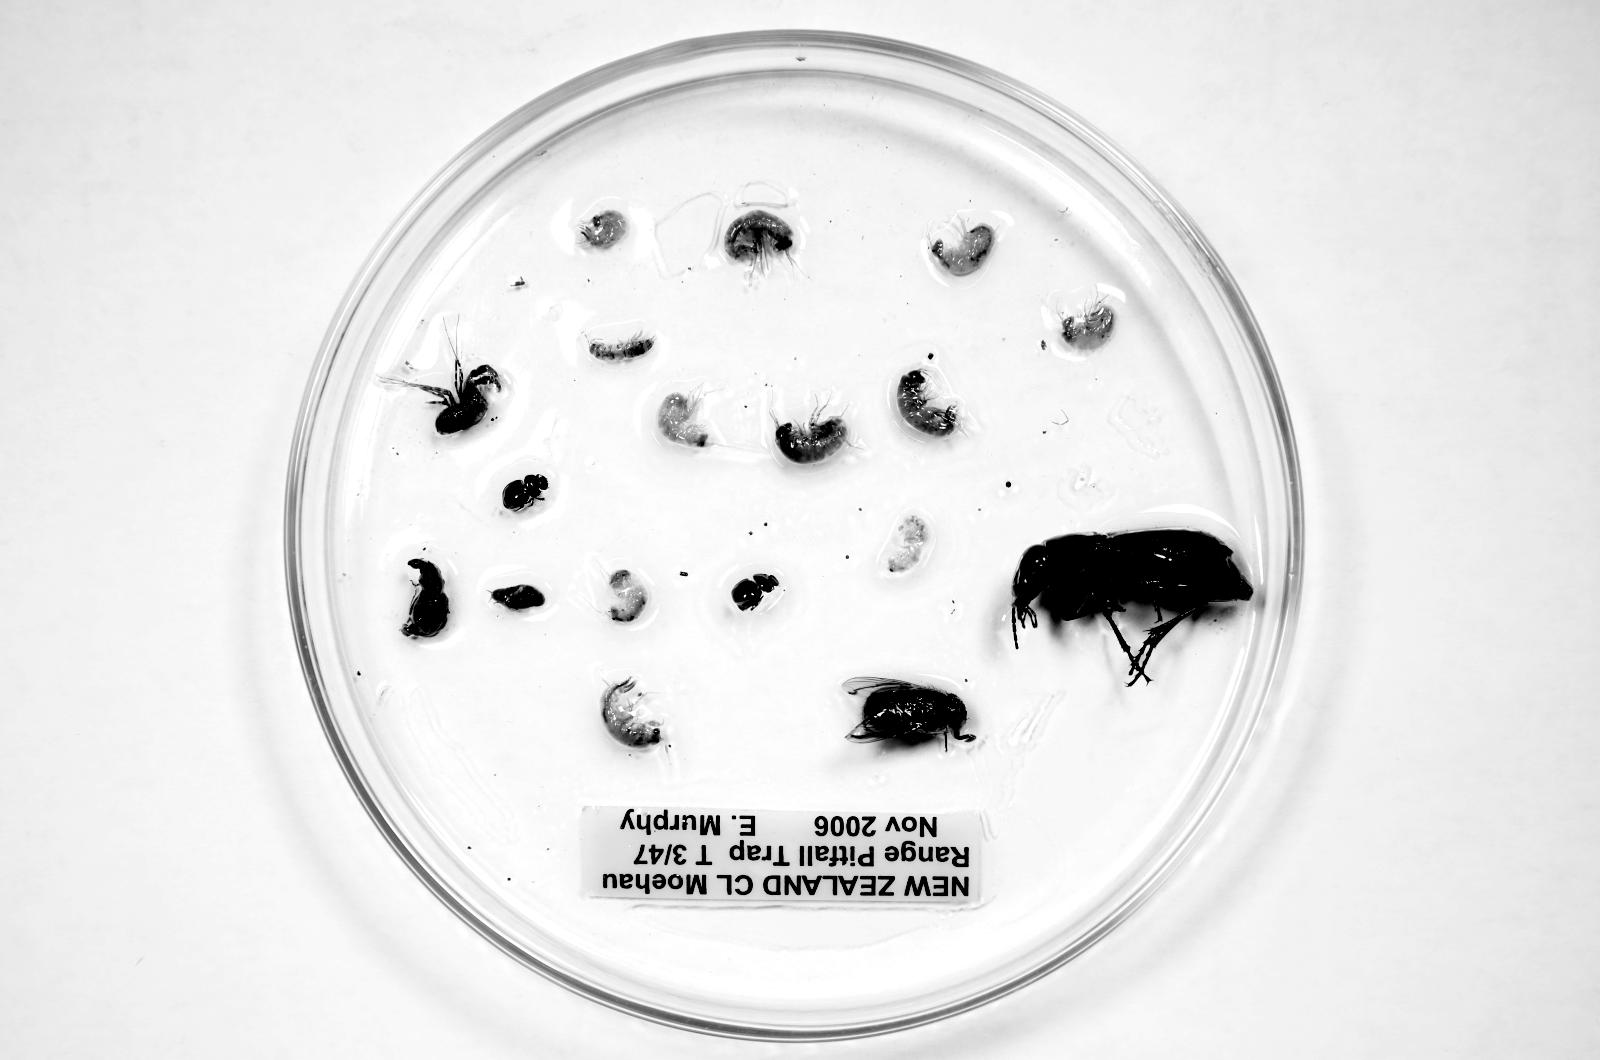amphipoda: (724, 209, 793, 280), (895, 363, 961, 437), (601, 677, 663, 749), (929, 216, 996, 276), (775, 416, 848, 464), (881, 512, 934, 577), (1060, 293, 1116, 353), (659, 388, 708, 447), (608, 569, 649, 623), (589, 329, 654, 361), (578, 209, 628, 248)
carabidae: (1011, 530, 1254, 686)
coleoptera: (402, 558, 449, 636), (731, 573, 779, 610), (503, 474, 549, 511)
diptera: (843, 677, 976, 749)
opiliones: (378, 358, 503, 434)
